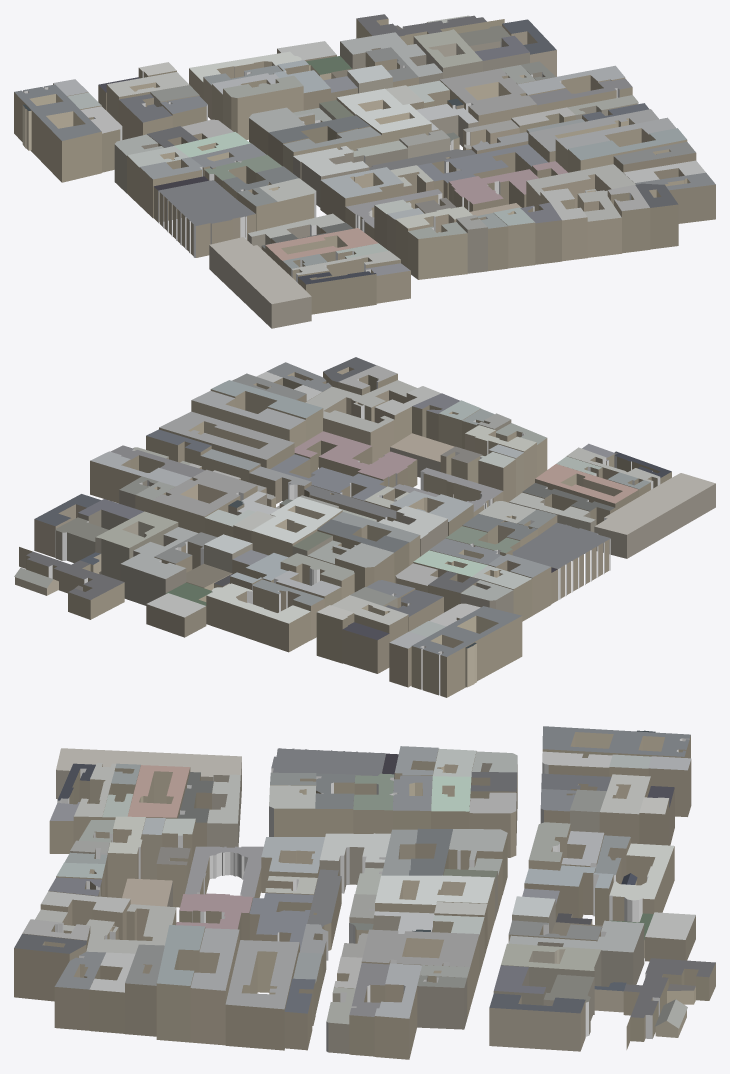
3 renders of one model, top to bottom at view 1: azimuth 30°, elevation 25°; view 2: azimuth 150°, elevation 25°; view 3: azimuth 270°, elevation 25°, orthographic. The views are drawn at different scales.
Visible parts, largest first — view 1: tuile; view 2: tuile; view 3: tuile.
Boxes of the visible parts, x1,y1,x2,y2 form: tuile: (14, 14, 715, 328); tuile: (14, 357, 715, 697); tuile: (14, 726, 715, 1059).
Size of the model in its own units: 266 by 26.6 by 275.
